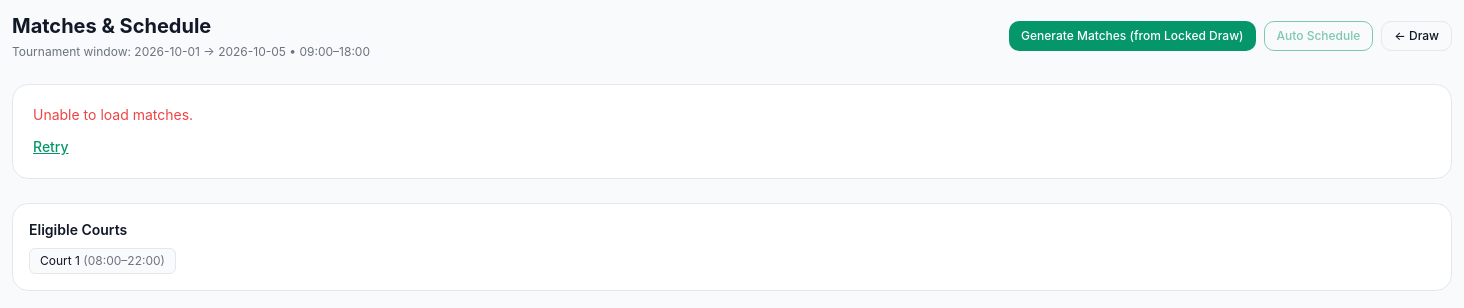
it: TournamentSchedulePage — F-02 fetch-error handling (UX-8) › matches query failure shows an error + Retry instead of the false "no matches generated" empty state, and Retry recovers
The width and height of the screenshot is (1464, 308).
Expected: the text "Unable to load matches." is shown, x1=33 y1=106 x2=193 y2=123
Expected: the text "Final" is not shown
Note: Retry refetches the matches query and renders the table.
Click the button "Retry". click: (51, 147)
box: x1=33 y1=137 x2=69 y2=157
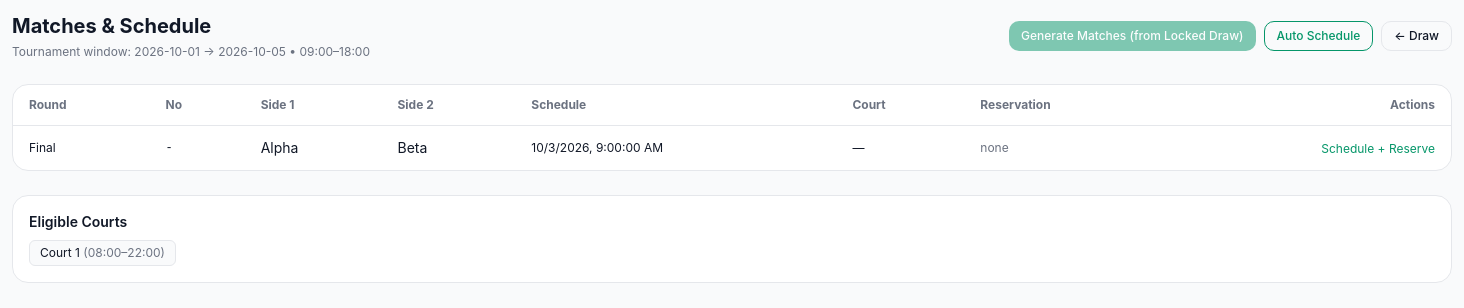
Now the text "Final" is shown, box x1=13 y1=126 x2=150 y2=170
Now the text "Unable to load matches." is gone
